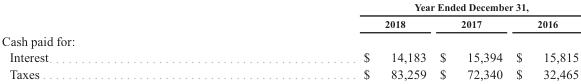table: (1, 0, 578, 80)
table column: (207, 0, 432, 80), (1, 0, 207, 80), (432, 0, 508, 80), (508, 0, 578, 80)
table column header: (1, 0, 578, 31)
table projected row header: (1, 31, 578, 48)
table row: (1, 31, 578, 48), (1, 48, 578, 65), (1, 15, 578, 31), (1, 0, 578, 15), (1, 65, 578, 80)
table spanning cell: (207, 0, 578, 15)
